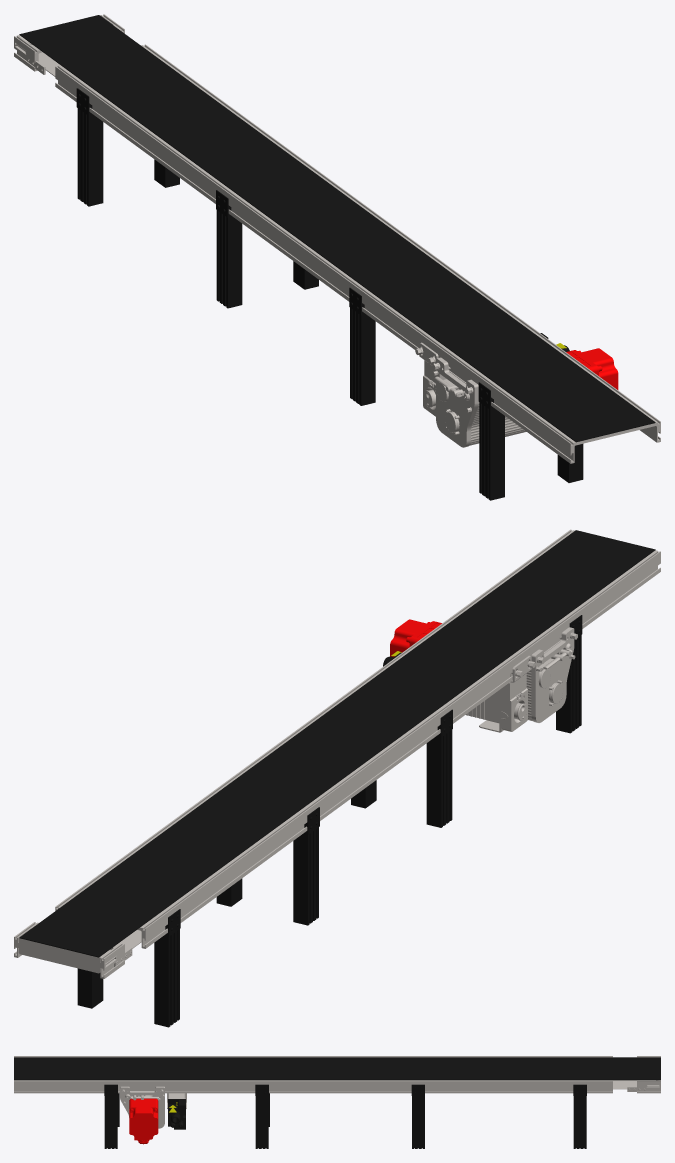
The model's file is Conveyor.glb.
3 views of the same model, one above another, from view 1: azimuth 30°, elevation 25°; view 2: azimuth 150°, elevation 25°; view 3: azimuth 270°, elevation 25° (orthographic). The views are drawn at different scales.
Parts seen in each view (by area): view 1: belt, color-6[5], color-44[2].001, color-7, Copy of Unnamed Node 7, Copy of Unnamed Node 7.001, color-7[1], color-44[6].002, color-6, Copy of Copy of Unnamed Node 8; view 2: belt, color-6[5], color-44[2].001, color-7[1], color-7, Copy of Unnamed Node 7, color-6, color-44[9].001, Copy of Unnamed Node 7.001, color-44[6].002, color-7[3]; view 3: belt, color-6[5], color-44[6].002, Copy of Copy of Unnamed Node 8, Copy of Unnamed Node 8, color-7[3], color-7[2], color-44[2].001, color-44[10].002, color-6, color-6[1].
Boxes of the visible parts, x1=… form: belt: x1=19, y1=15, x2=655, y2=442; color-6[5]: x1=55, y1=44, x2=660, y2=463; color-44[2].001: x1=432, y1=357, x2=526, y2=447; color-7: x1=76, y1=88, x2=103, y2=206; Copy of Unnamed Node 7: x1=216, y1=190, x2=242, y2=308; Copy of Unnamed Node 7.001: x1=478, y1=382, x2=504, y2=500; color-7[1]: x1=349, y1=287, x2=375, y2=405; color-44[6].002: x1=566, y1=348, x2=618, y2=389; color-6: x1=14, y1=14, x2=124, y2=74; Copy of Copy of Unnamed Node 8: x1=557, y1=444, x2=583, y2=482; belt: x1=19, y1=530, x2=655, y2=957; color-6[5]: x1=55, y1=529, x2=660, y2=948; color-44[2].001: x1=526, y1=627, x2=577, y2=722; color-7[1]: x1=426, y1=709, x2=452, y2=827; color-7: x1=154, y1=909, x2=180, y2=1027; Copy of Unnamed Node 7: x1=293, y1=807, x2=319, y2=925; color-6: x1=14, y1=922, x2=132, y2=978; color-44[9].001: x1=466, y1=673, x2=527, y2=731; Copy of Unnamed Node 7.001: x1=556, y1=615, x2=582, y2=733; color-44[6].002: x1=390, y1=619, x2=441, y2=657; color-7[3]: x1=77, y1=968, x2=103, y2=1008; belt: x1=14, y1=1057, x2=660, y2=1080; color-6[5]: x1=14, y1=1056, x2=612, y2=1093; color-44[6].002: x1=129, y1=1098, x2=158, y2=1144; Copy of Copy of Unnamed Node 8: x1=104, y1=1084, x2=117, y2=1148; Copy of Unnamed Node 8: x1=255, y1=1084, x2=268, y2=1148; color-7[3]: x1=573, y1=1084, x2=586, y2=1148; color-7[2]: x1=411, y1=1084, x2=424, y2=1148; color-44[2].001: x1=120, y1=1086, x2=164, y2=1128; color-44[10].002: x1=168, y1=1099, x2=185, y2=1129; color-6: x1=627, y1=1056, x2=660, y2=1093; color-6[1]: x1=613, y1=1080, x2=655, y2=1089.
Size of the model in its own units: 0.333 by 0.23 by 2.
